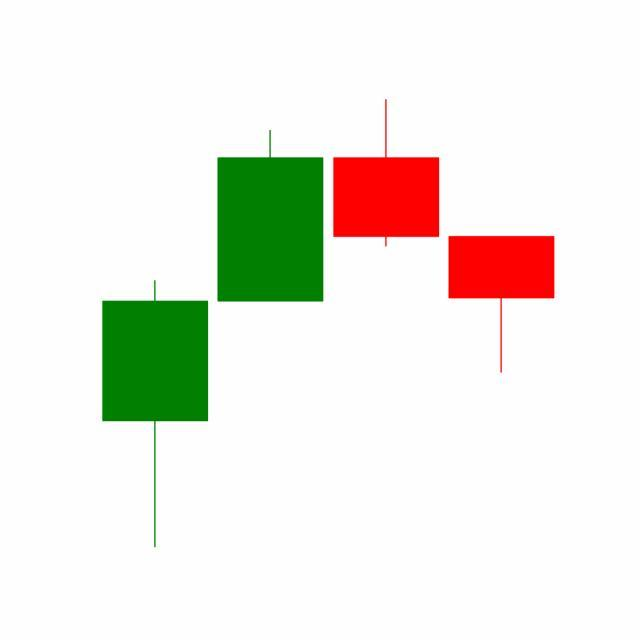Hammer: (444, 235, 560, 376)
